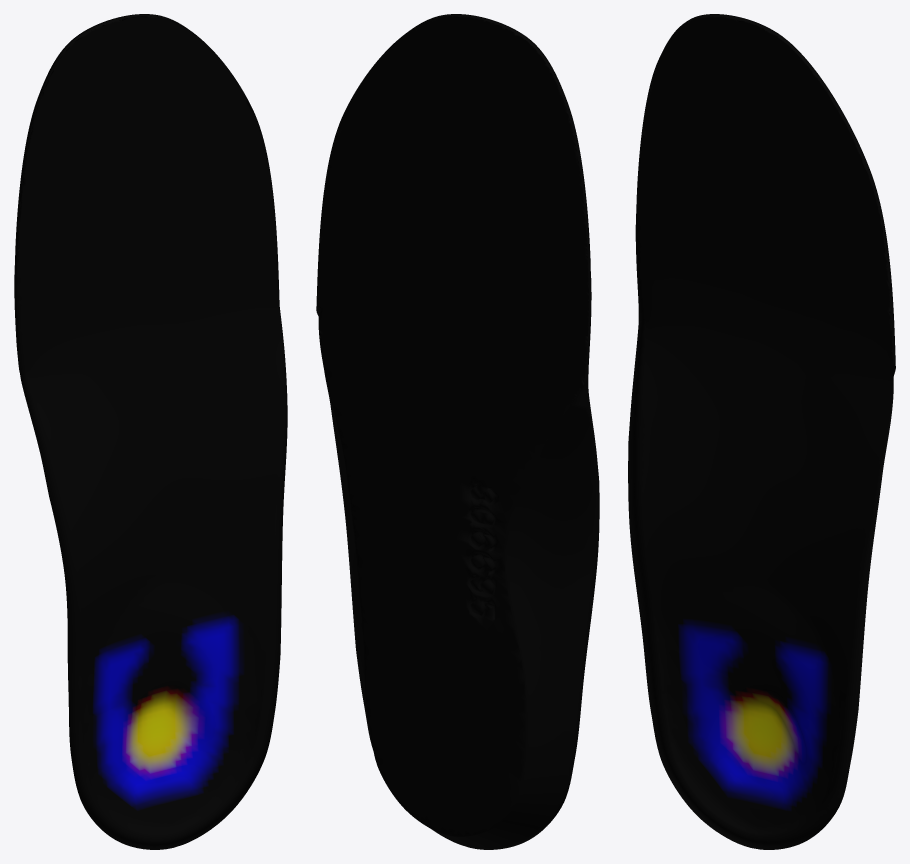
File: CPO-306695_RIGHT.glb
The picture shows the model from 3 angles, left to right: view 1: azimuth 30°, elevation 25°; view 2: azimuth 150°, elevation 25°; view 3: azimuth 330°, elevation 25°; orthographic projection. The views are drawn at different scales.
Visible parts, largest first — view 1: geometry_0; view 2: geometry_0; view 3: geometry_0.
Part boxes in pixels (x1,y1,x2,y2): geometry_0: (14,14,287,849); geometry_0: (316,14,599,849); geometry_0: (628,14,895,849).
Size of the model in its own units: 99.3 by 296 by 19.35.
